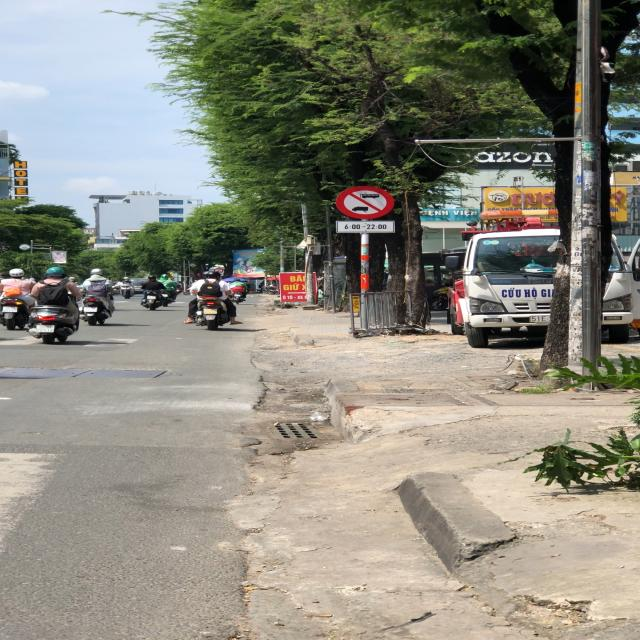Bien bao cam xe oto khach va xe oto tai: (334, 183, 399, 220)
